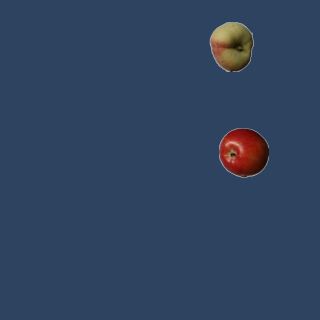Apple Braeburn: (218, 127, 268, 177)
Peach Flat: (206, 21, 256, 71)
